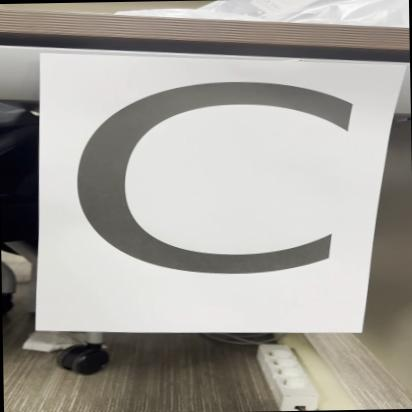seat: (58, 49, 400, 353)
